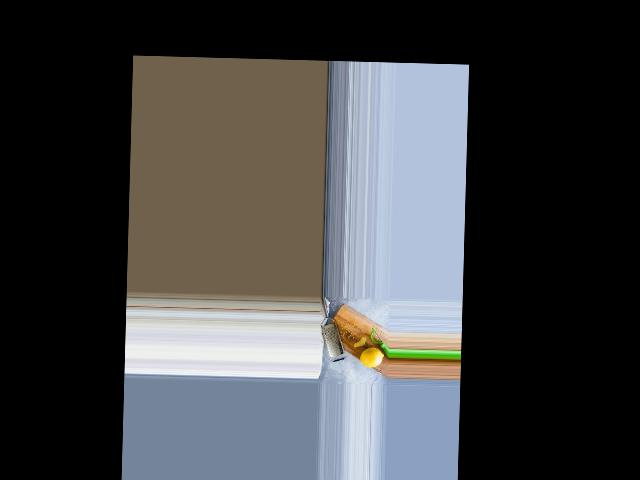lemon: (360, 346, 384, 368)
